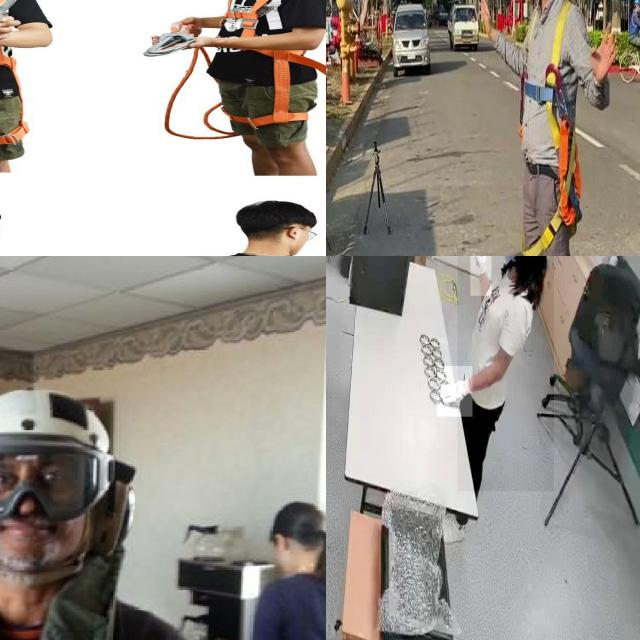Harness: (524, 1, 583, 256)
face_nomask: (0, 450, 80, 549)
glasses: (0, 439, 113, 521)
hand_glove: (437, 366, 473, 418), (470, 256, 491, 296)
head_helmet: (0, 383, 120, 460)
person: (0, 407, 260, 640), (457, 256, 554, 492)
